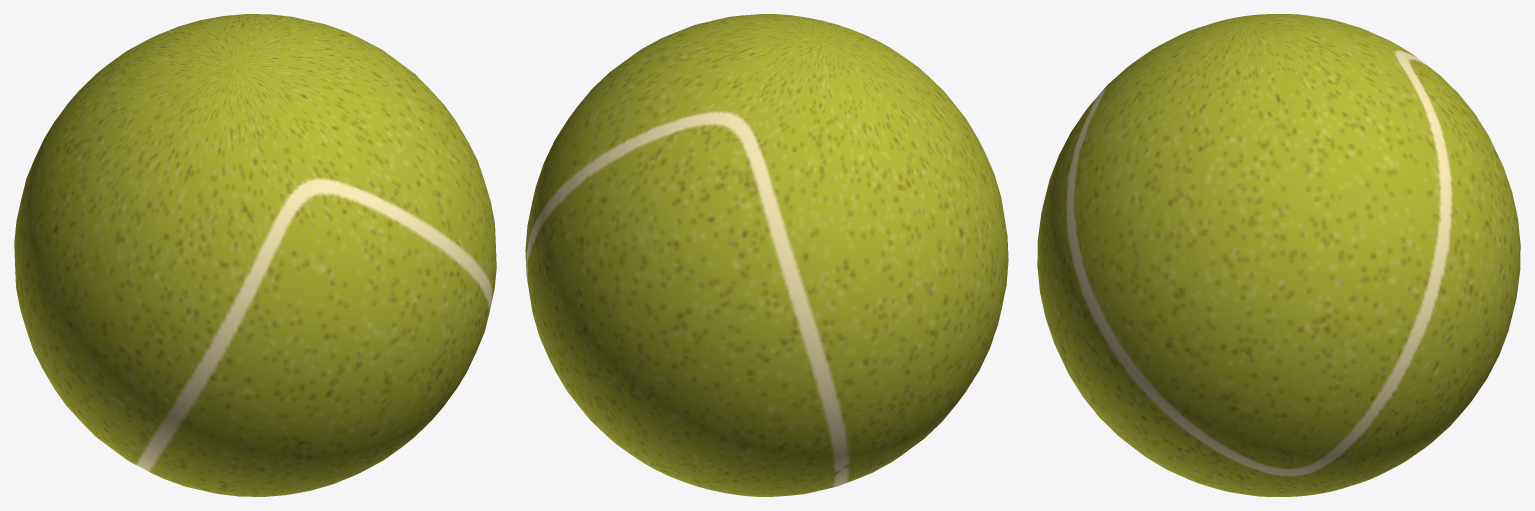
Rendered from tennis.glb.
3 renders of one model, left to right at view 1: azimuth 30°, elevation 25°; view 2: azimuth 150°, elevation 25°; view 3: azimuth 270°, elevation 25°, orthographic.
Bounding box in the file's own units: 0.7985 × 0.7998 × 0.7991.
1 material, 1 textured.
